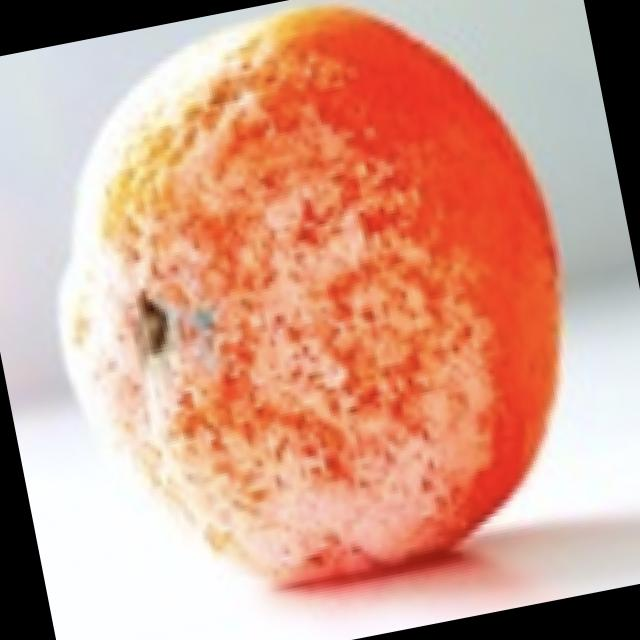rotten-orange: (5, 0, 607, 627)
